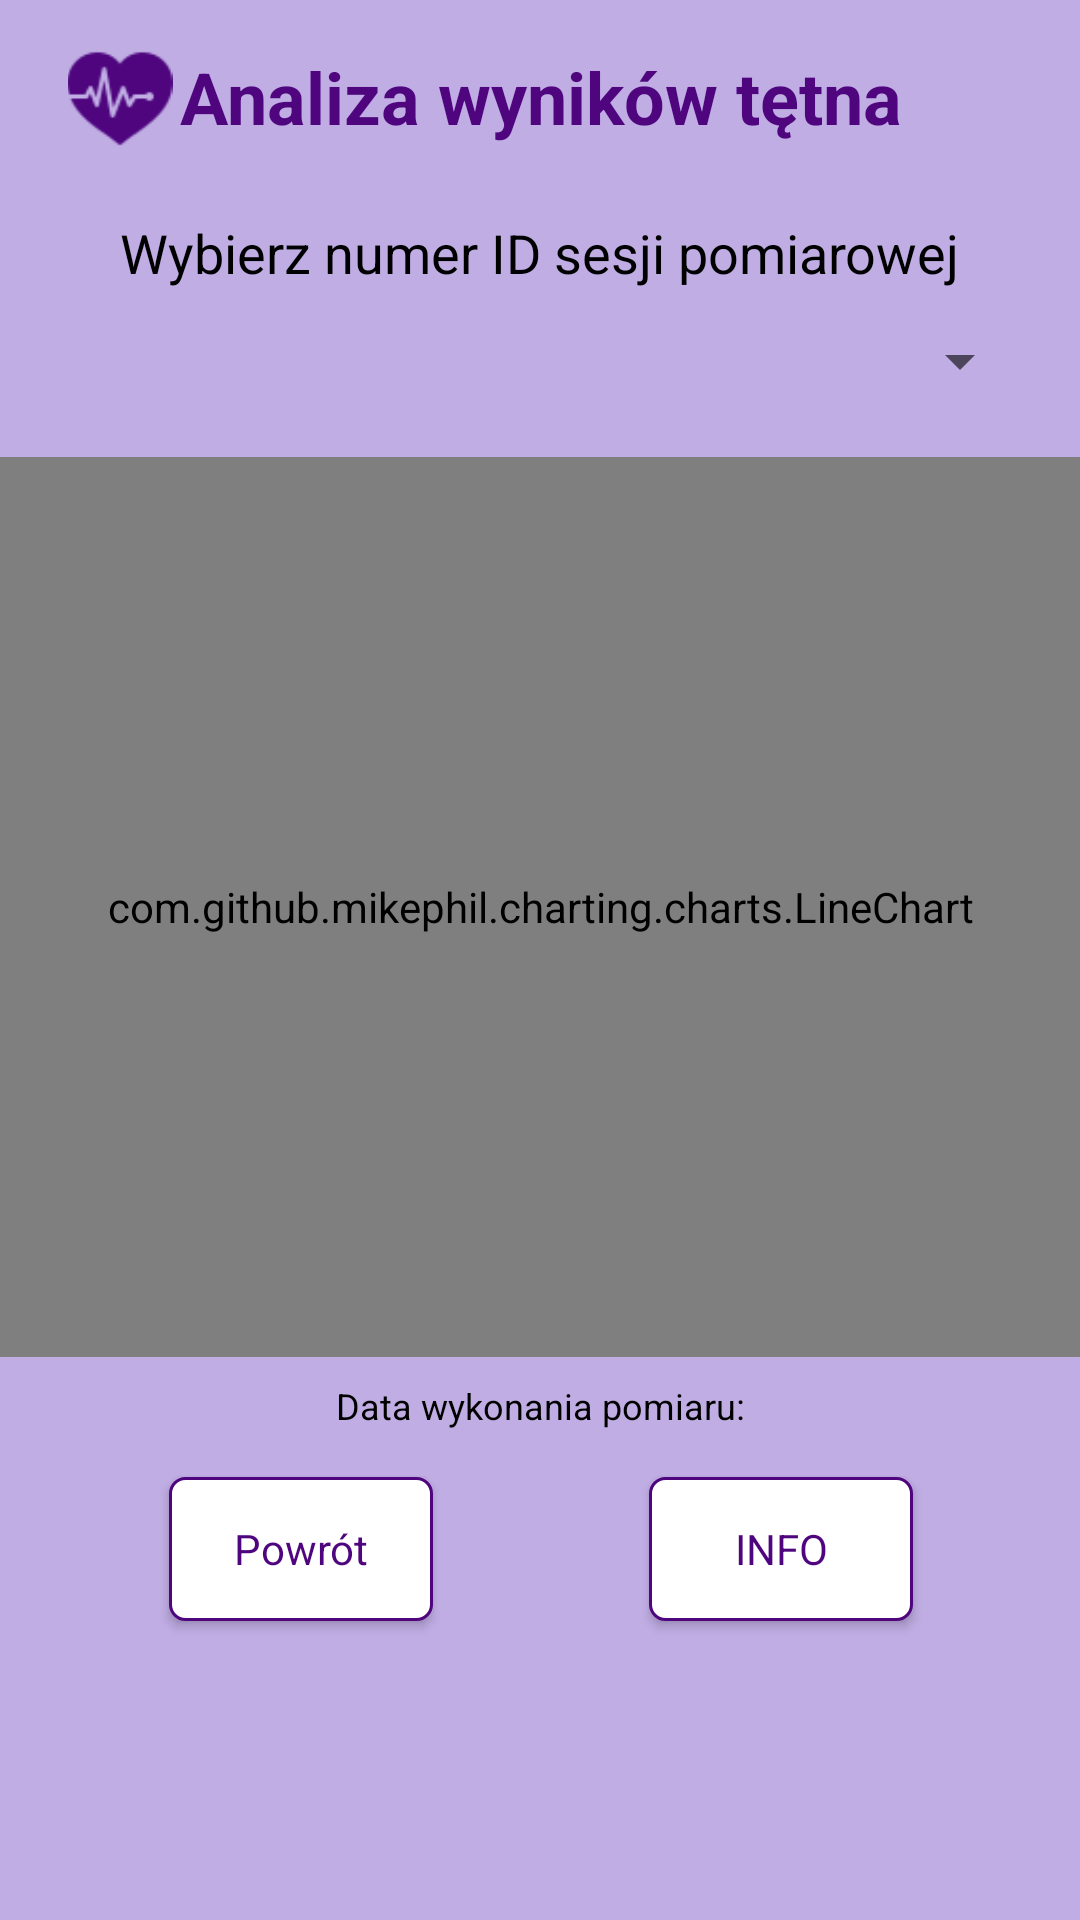

Locate icon controls on the screen. Image size 1080 x 1920, boxes as (x1, y1, x2, y2).
heartrate: (68, 52, 173, 145)
